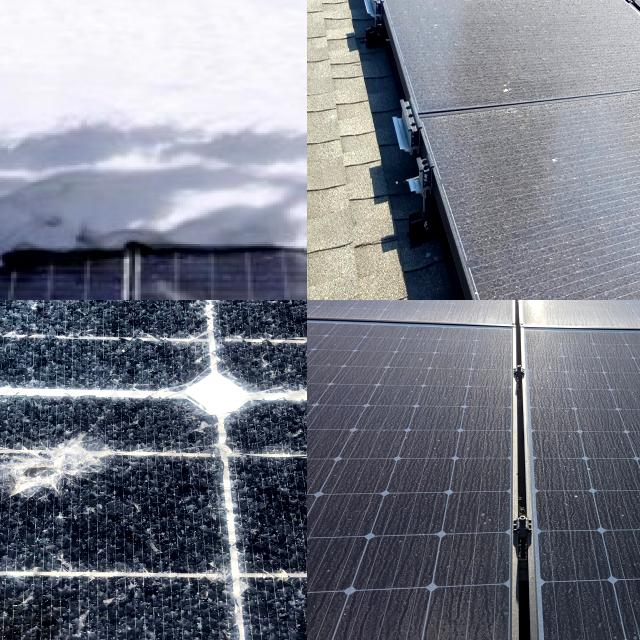dust: (468, 118, 640, 246), (404, 2, 630, 94), (539, 444, 640, 640), (307, 536, 497, 640), (408, 403, 502, 517), (307, 394, 391, 517), (307, 333, 498, 384), (534, 343, 640, 421), (380, 0, 566, 25), (368, 0, 520, 20), (351, 0, 483, 22)
hotspot: (0, 417, 190, 535)
panel: (0, 81, 307, 261)
